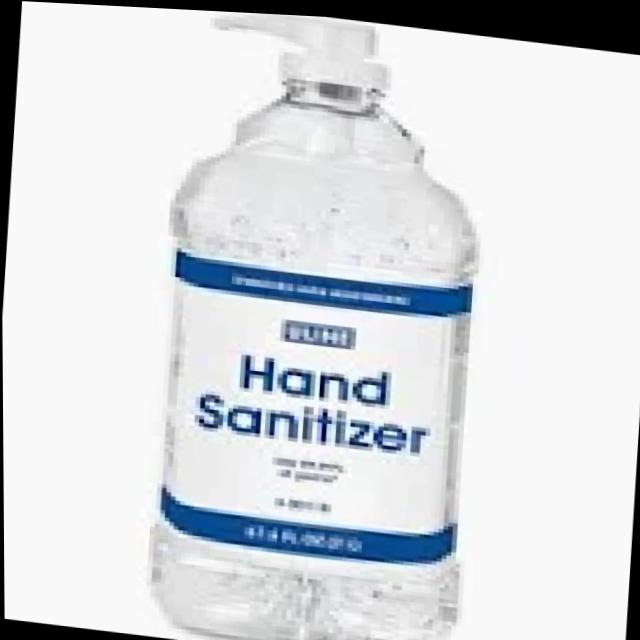Botella: (135, 7, 506, 640)
